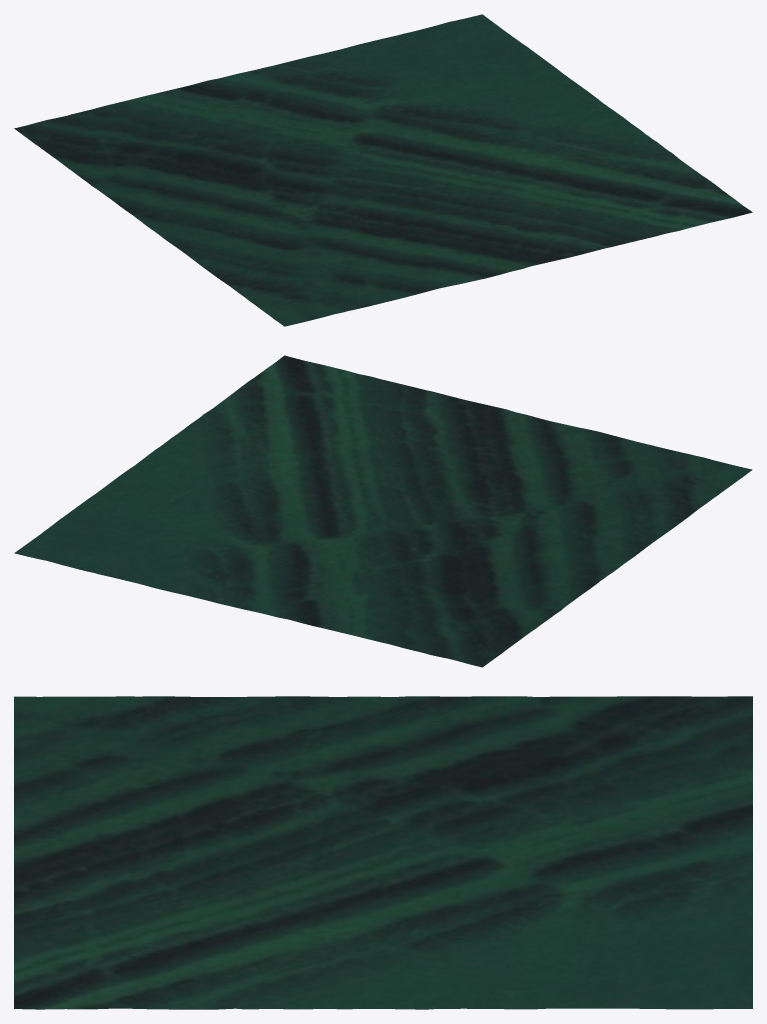
The picture shows the model from 3 angles, top to bottom: view 1: azimuth 30°, elevation 25°; view 2: azimuth 150°, elevation 25°; view 3: azimuth 270°, elevation 25°; orthographic projection. The views are drawn at different scales.
Size of the model in its own units: 209 by 0.8866 by 209.
3 materials, 3 textured.
